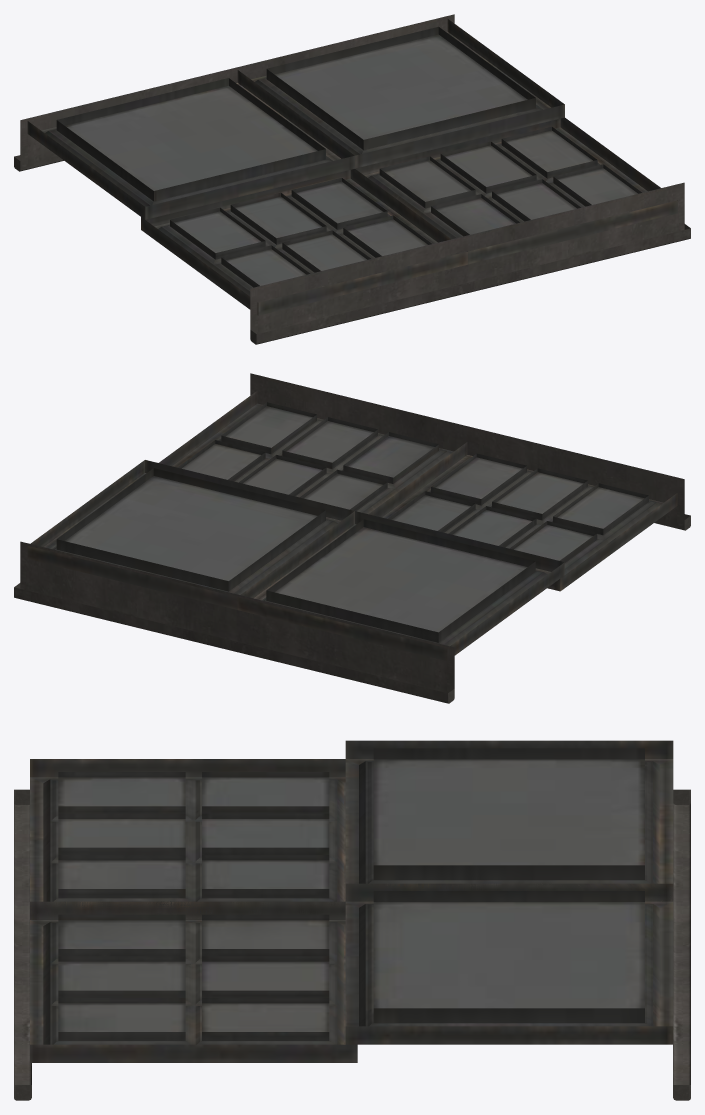
File: window_centered_large_03.gltf
3 views of the same model, one above another, from view 1: azimuth 30°, elevation 25°; view 2: azimuth 150°, elevation 25°; view 3: azimuth 270°, elevation 25° (orthographic). The views are drawn at different scales.
Visible parts, largest first — view 1: window_centered_large_03; view 2: window_centered_large_03; view 3: window_centered_large_03.
Part boxes in pixels (left/top/right/bottom): window_centered_large_03: left=14, top=14, right=690, bottom=344; window_centered_large_03: left=14, top=373, right=690, bottom=703; window_centered_large_03: left=14, top=740, right=690, bottom=1100.
Bounding box in the file's own units: 1.74 × 0.2049 × 1.68.
Materials: 3 (3 with a texture image).
